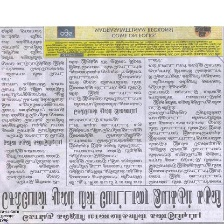news_paper: (0, 26, 224, 224)
